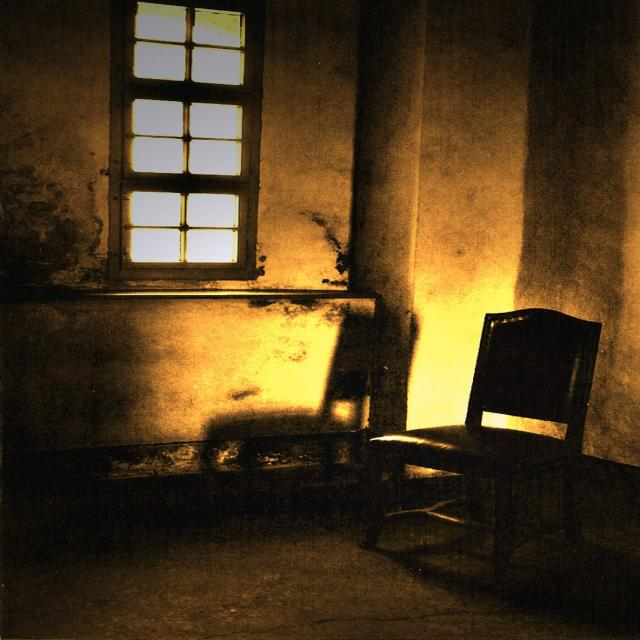chair: (384, 302, 605, 620)
